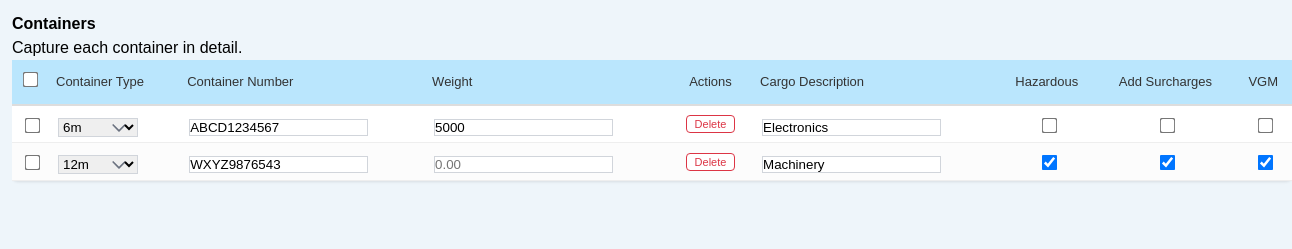
Test case: ContainerDetailsTable — rendering › shows the mass-edit toolbar only after rows are selected
The width and height of the screenshot is (1292, 249).
Expected: the text "set type to:" is not shown
Select the first row
Click the checkbox named "Select container 1": (32, 125) [25,117,40,133]
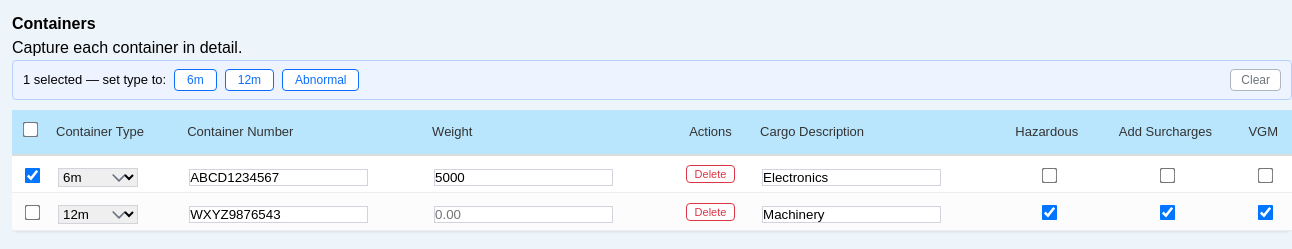
Expected: the text "1 selected — set type to:" is shown, [23,70,166,90]
